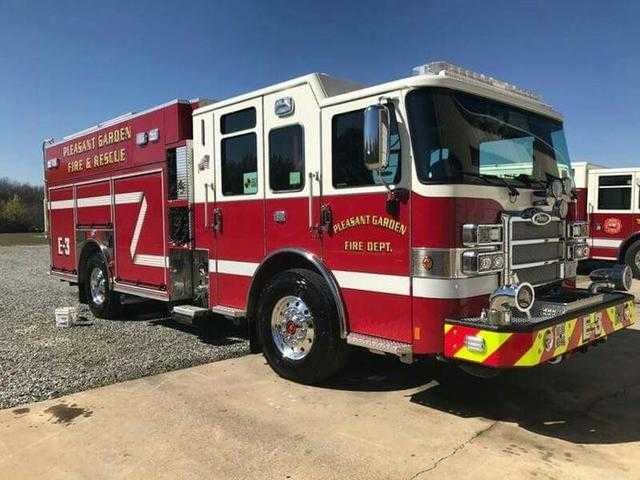Fire Truck: (39, 86, 628, 374)
